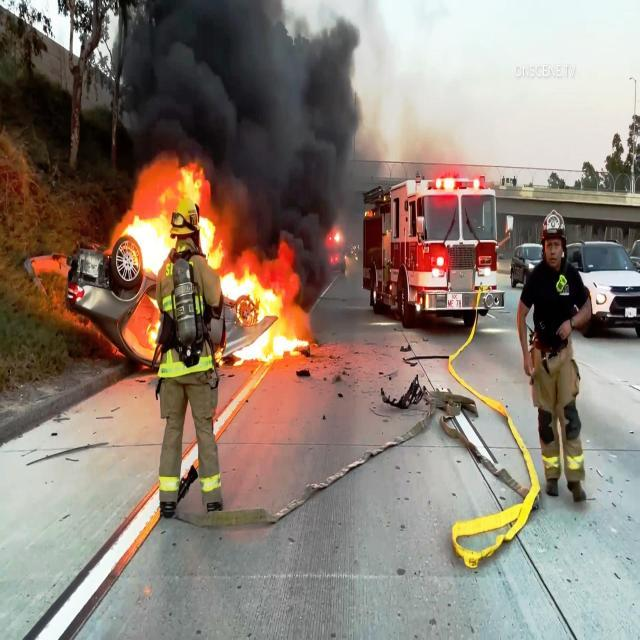Fire: (225, 242, 314, 368), (120, 186, 158, 274), (160, 158, 207, 206), (198, 216, 228, 270), (160, 210, 178, 264)
Smoke: (128, 2, 362, 149), (208, 149, 348, 208), (232, 212, 324, 241)
